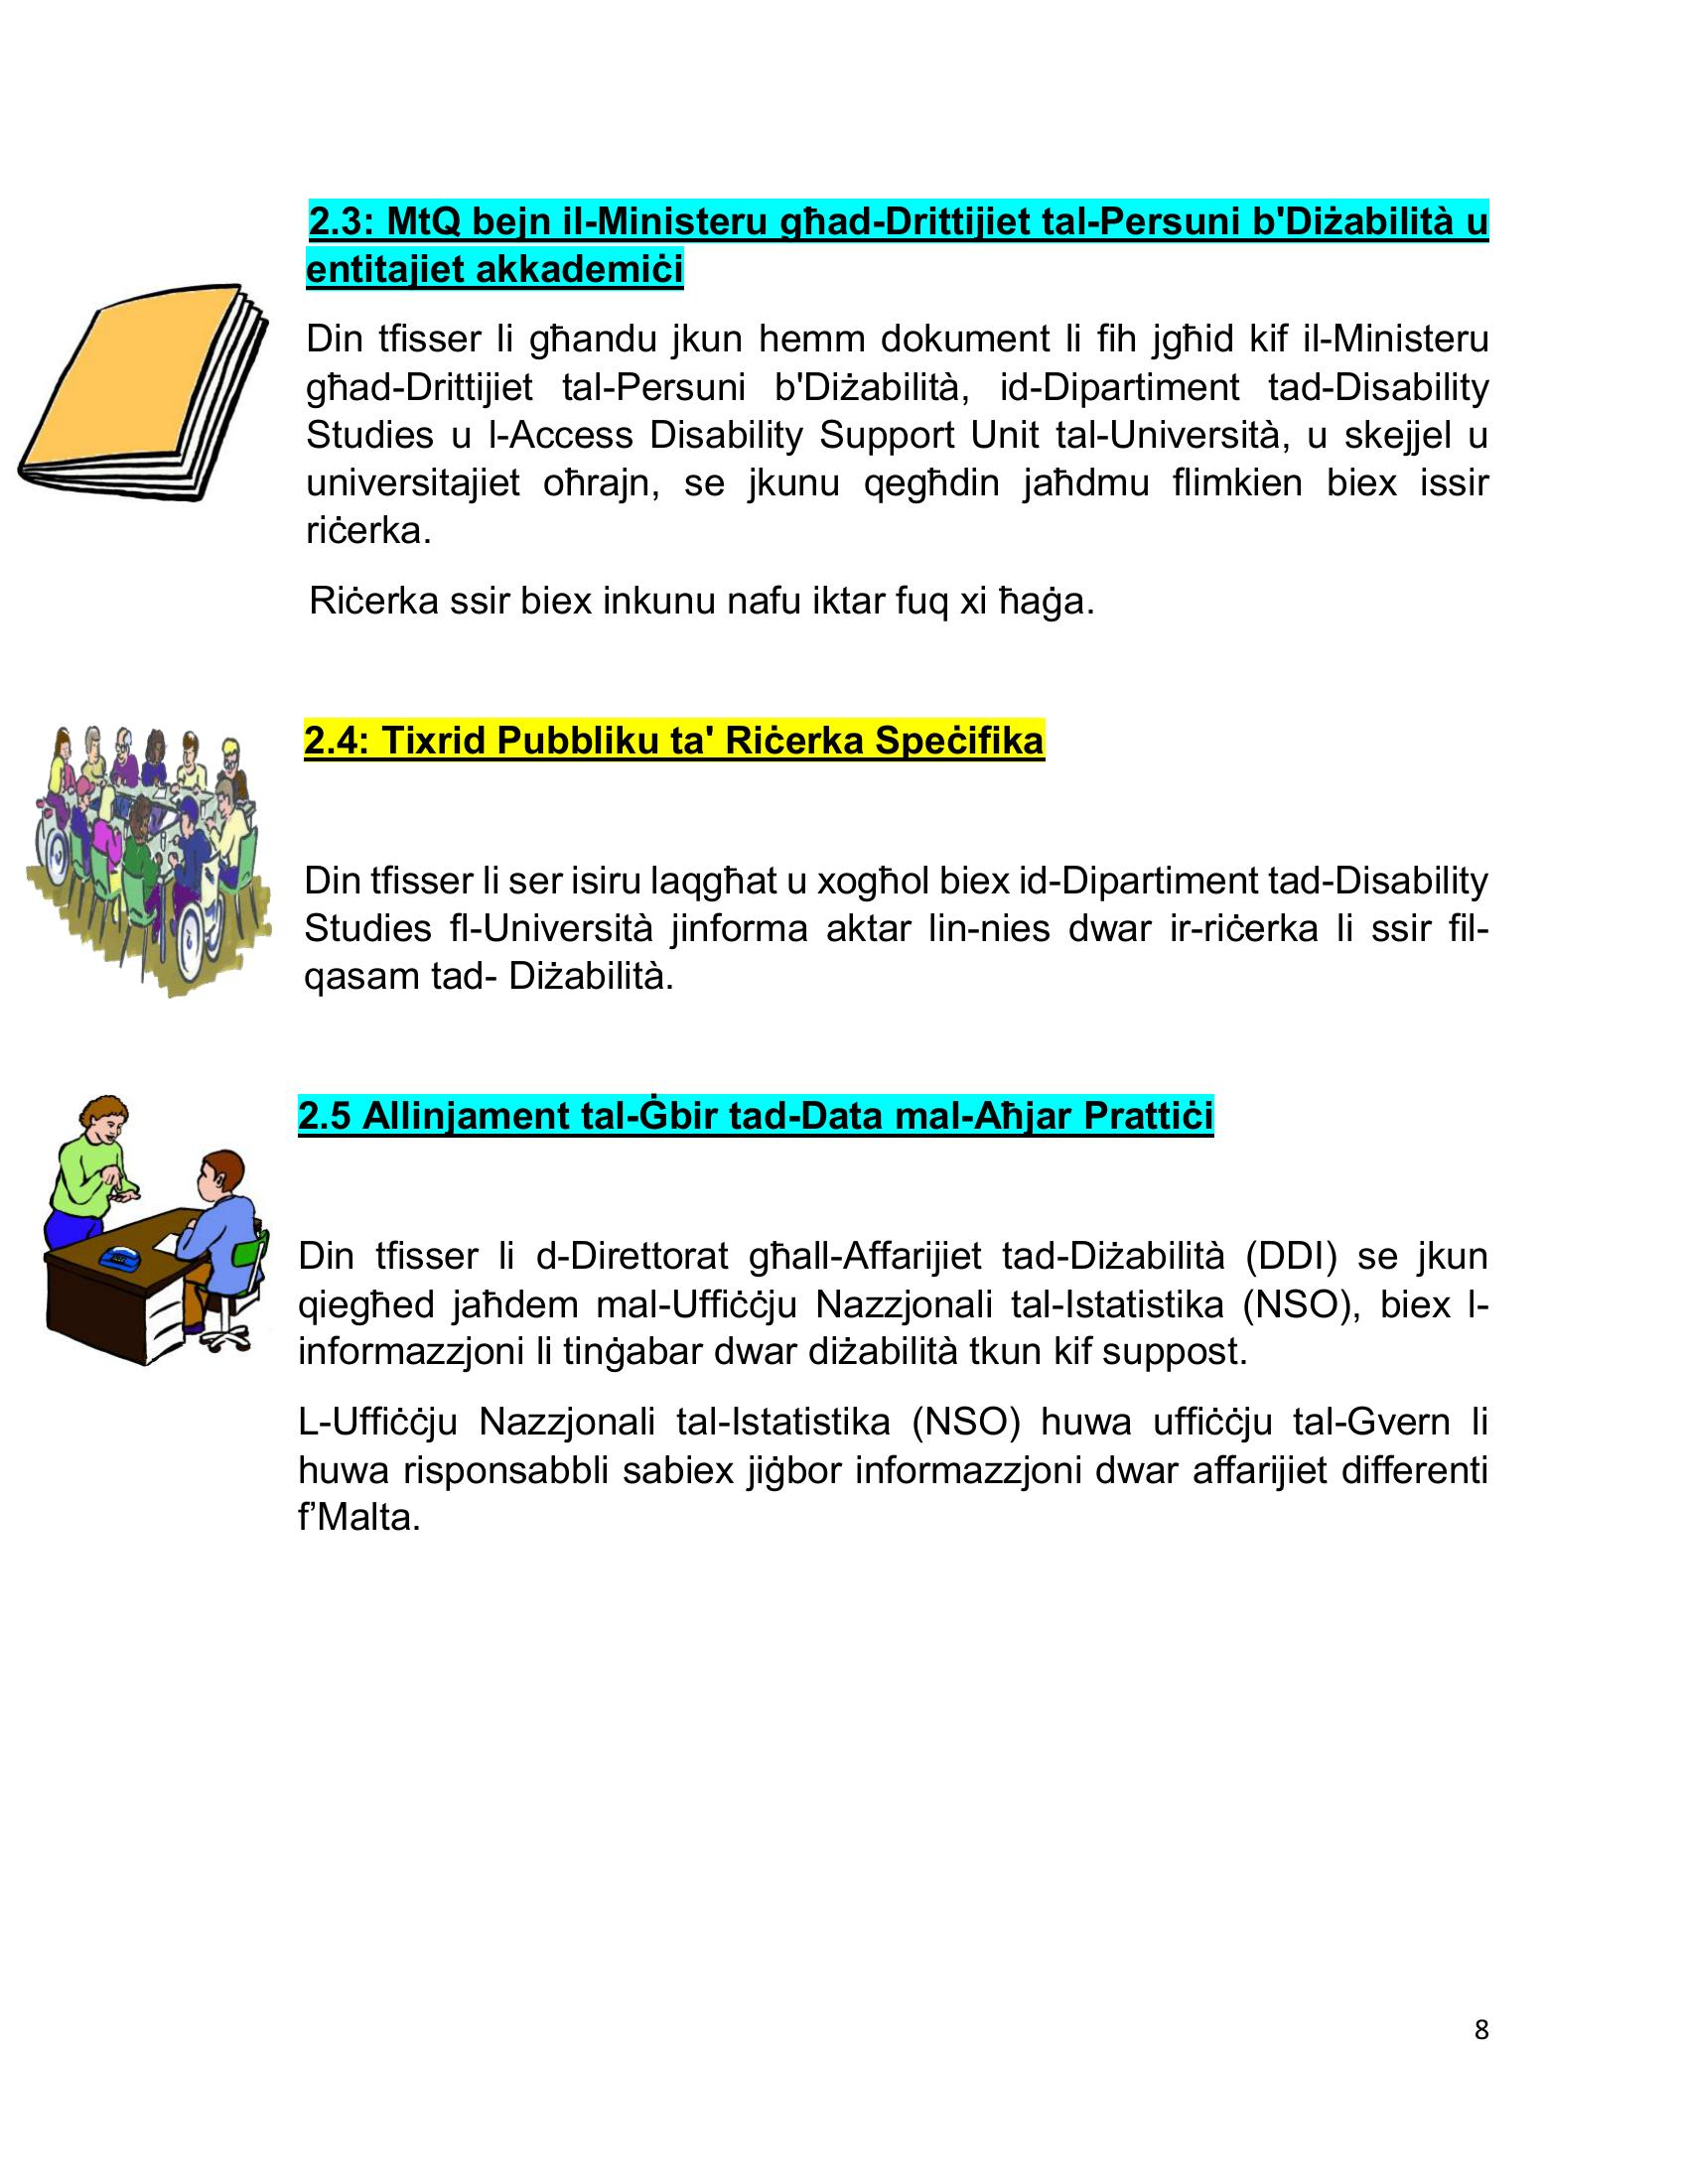text: (296, 191, 1504, 1546)
